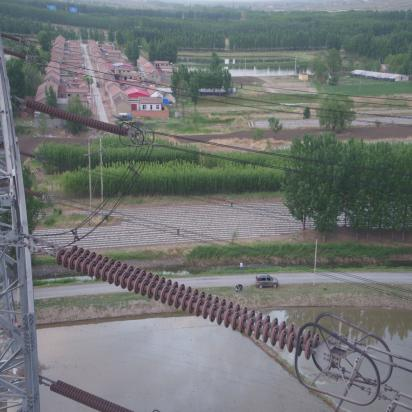insulator: (44, 244, 325, 362), (22, 98, 133, 138), (45, 378, 134, 412)
